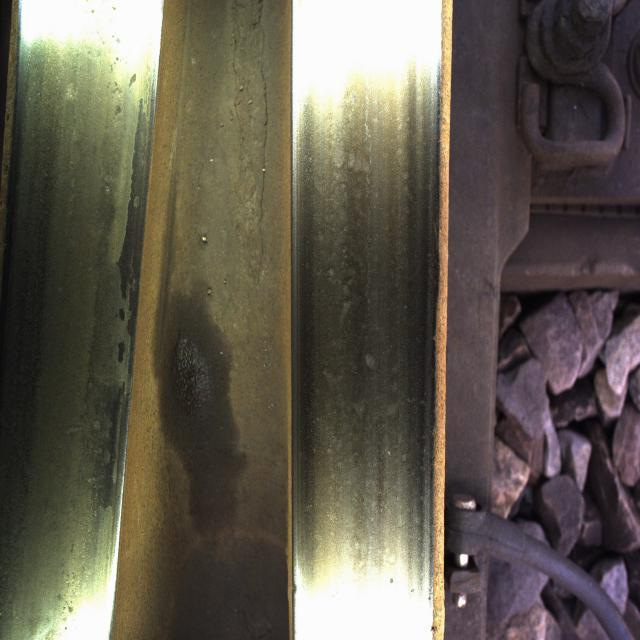normal: (304, 54, 418, 576)
